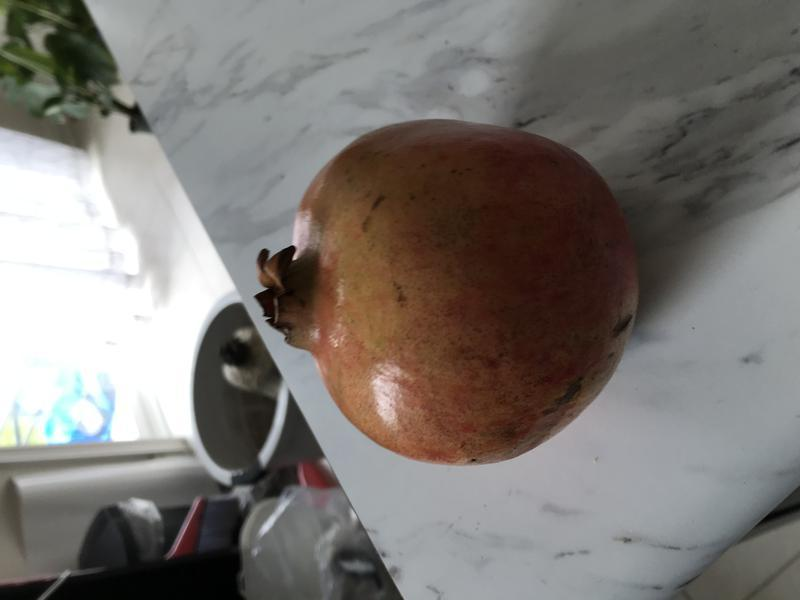pomegranate: (253, 102, 660, 479)
